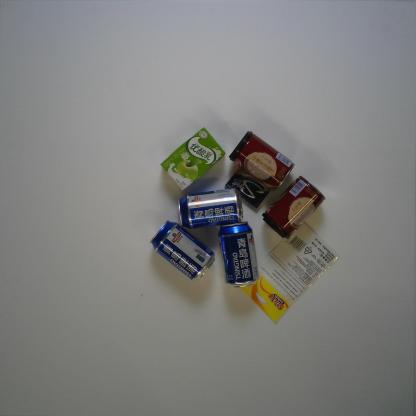Alcohol: (149, 219, 216, 281), (218, 220, 260, 289), (178, 188, 244, 230)
Canned Food: (261, 175, 327, 240), (229, 130, 295, 192)
Gum: (226, 167, 272, 208)
Milk: (160, 127, 226, 191)
Stationery: (239, 221, 338, 324)
